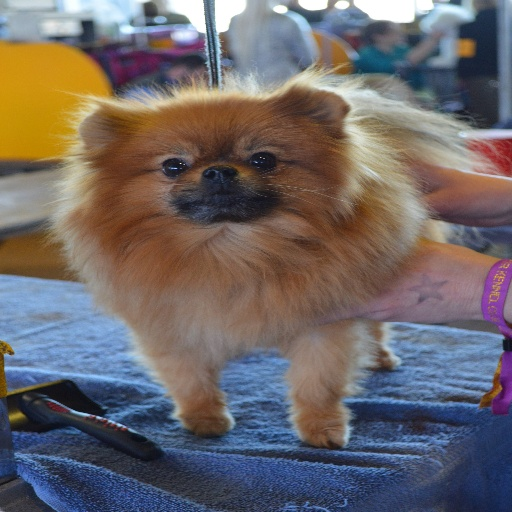hand: (310, 236, 493, 325), (398, 155, 511, 228)
